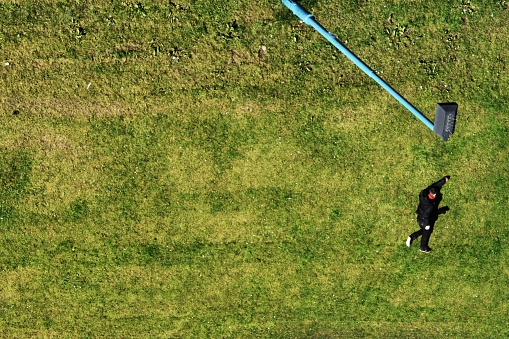deitado: (400, 170, 444, 251)
